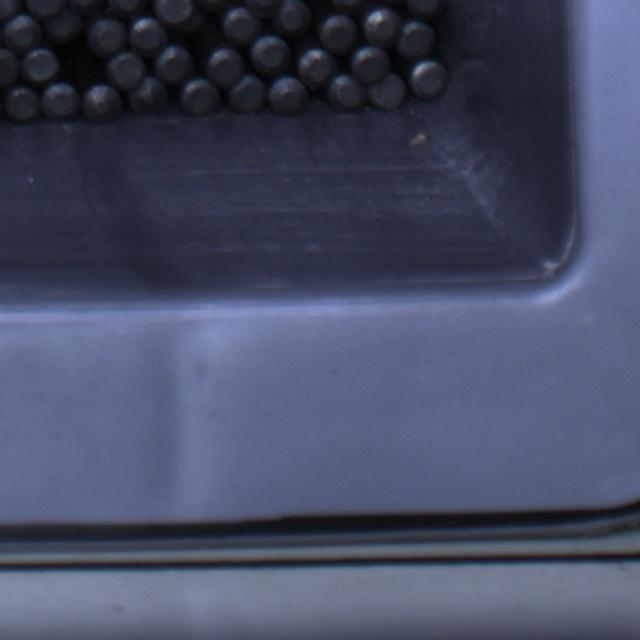tool: (296, 48, 338, 88), (267, 76, 308, 116), (154, 44, 194, 84), (363, 6, 402, 47), (180, 77, 222, 115), (206, 47, 246, 86), (409, 59, 448, 99), (252, 34, 292, 73), (128, 77, 168, 116), (226, 74, 267, 112), (83, 84, 124, 122), (319, 14, 358, 53), (222, 4, 261, 43), (88, 18, 128, 56), (42, 83, 82, 121), (106, 52, 145, 90), (351, 46, 390, 84), (130, 16, 168, 55), (398, 18, 437, 56), (3, 15, 42, 52), (368, 72, 407, 108), (328, 73, 367, 109), (2, 86, 40, 122), (46, 6, 84, 42), (271, 0, 311, 33), (18, 48, 56, 82), (152, 0, 192, 24), (0, 48, 20, 87), (244, 1, 284, 16)
